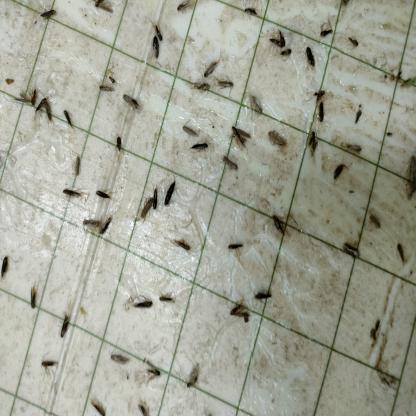prays_oleae: (50, 310, 82, 346), (226, 300, 256, 337), (182, 355, 204, 404), (325, 156, 357, 186), (269, 212, 300, 242), (244, 84, 266, 124), (250, 283, 279, 313), (269, 32, 293, 68), (224, 239, 254, 267), (40, 352, 66, 382), (364, 211, 384, 250), (120, 296, 154, 318), (223, 150, 247, 180), (134, 196, 156, 226), (118, 91, 146, 114), (83, 392, 113, 413), (337, 232, 358, 262), (60, 105, 80, 135), (90, 182, 114, 206), (34, 3, 61, 24), (162, 175, 177, 211), (38, 96, 60, 120), (110, 136, 132, 160), (0, 249, 15, 284), (62, 185, 86, 206), (82, 215, 110, 233), (214, 74, 238, 95), (351, 93, 365, 129), (157, 288, 179, 310), (233, 124, 249, 154), (26, 284, 46, 308), (192, 136, 211, 160), (98, 348, 126, 364), (89, 2, 121, 16), (305, 124, 317, 161), (186, 78, 209, 97), (139, 366, 163, 384), (197, 62, 221, 79), (304, 45, 318, 72), (316, 102, 329, 130), (396, 241, 408, 270), (72, 153, 87, 176), (313, 84, 332, 102), (177, 3, 203, 16), (172, 235, 188, 255), (185, 122, 200, 142), (266, 125, 280, 145), (153, 36, 162, 65), (243, 7, 263, 20), (136, 399, 151, 415), (100, 82, 113, 100), (154, 180, 159, 213)
